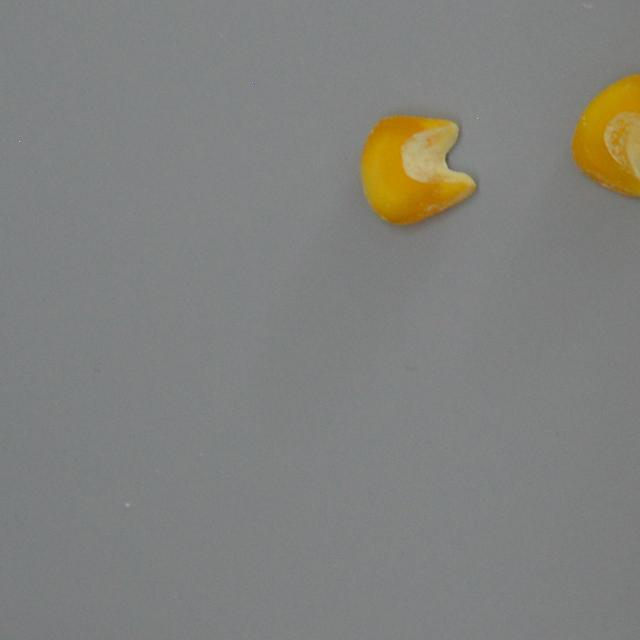dañado: (356, 108, 479, 231)
pelicula: (566, 69, 640, 203)
